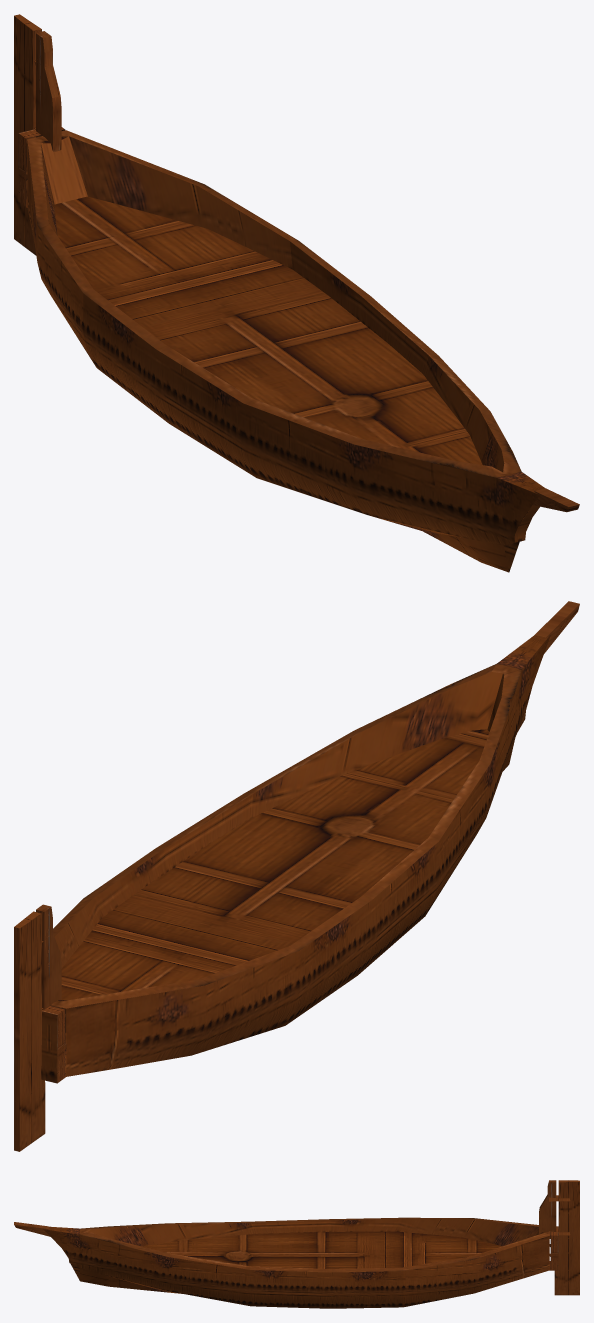
The model's file is ship_medium.dae.
3 renders of one model, top to bottom at view 1: azimuth 30°, elevation 25°; view 2: azimuth 150°, elevation 25°; view 3: azimuth 270°, elevation 25°, orthographic. The views are drawn at different scales.
Visible parts, largest first — view 1: ship_macrob; view 2: ship_macrob; view 3: ship_macrob.
Part boxes in pixels (x1,y1,x2,y2): ship_macrob: (14,14,579,572); ship_macrob: (14,601,579,1151); ship_macrob: (14,1180,579,1308).
Size of the model in its own units: 6.15 by 27.58 by 6.41.
